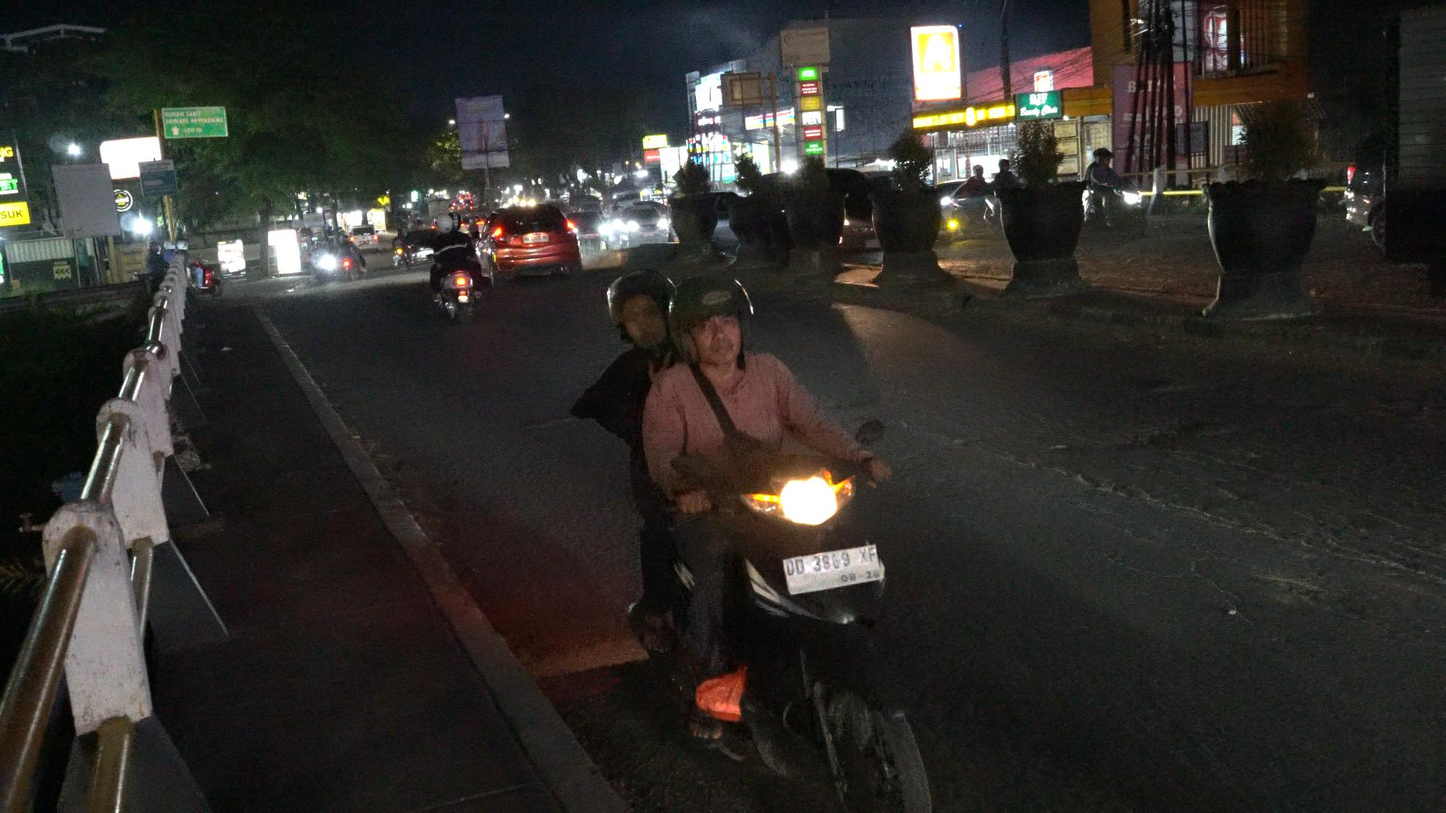number-plate: (782, 541, 887, 595)
